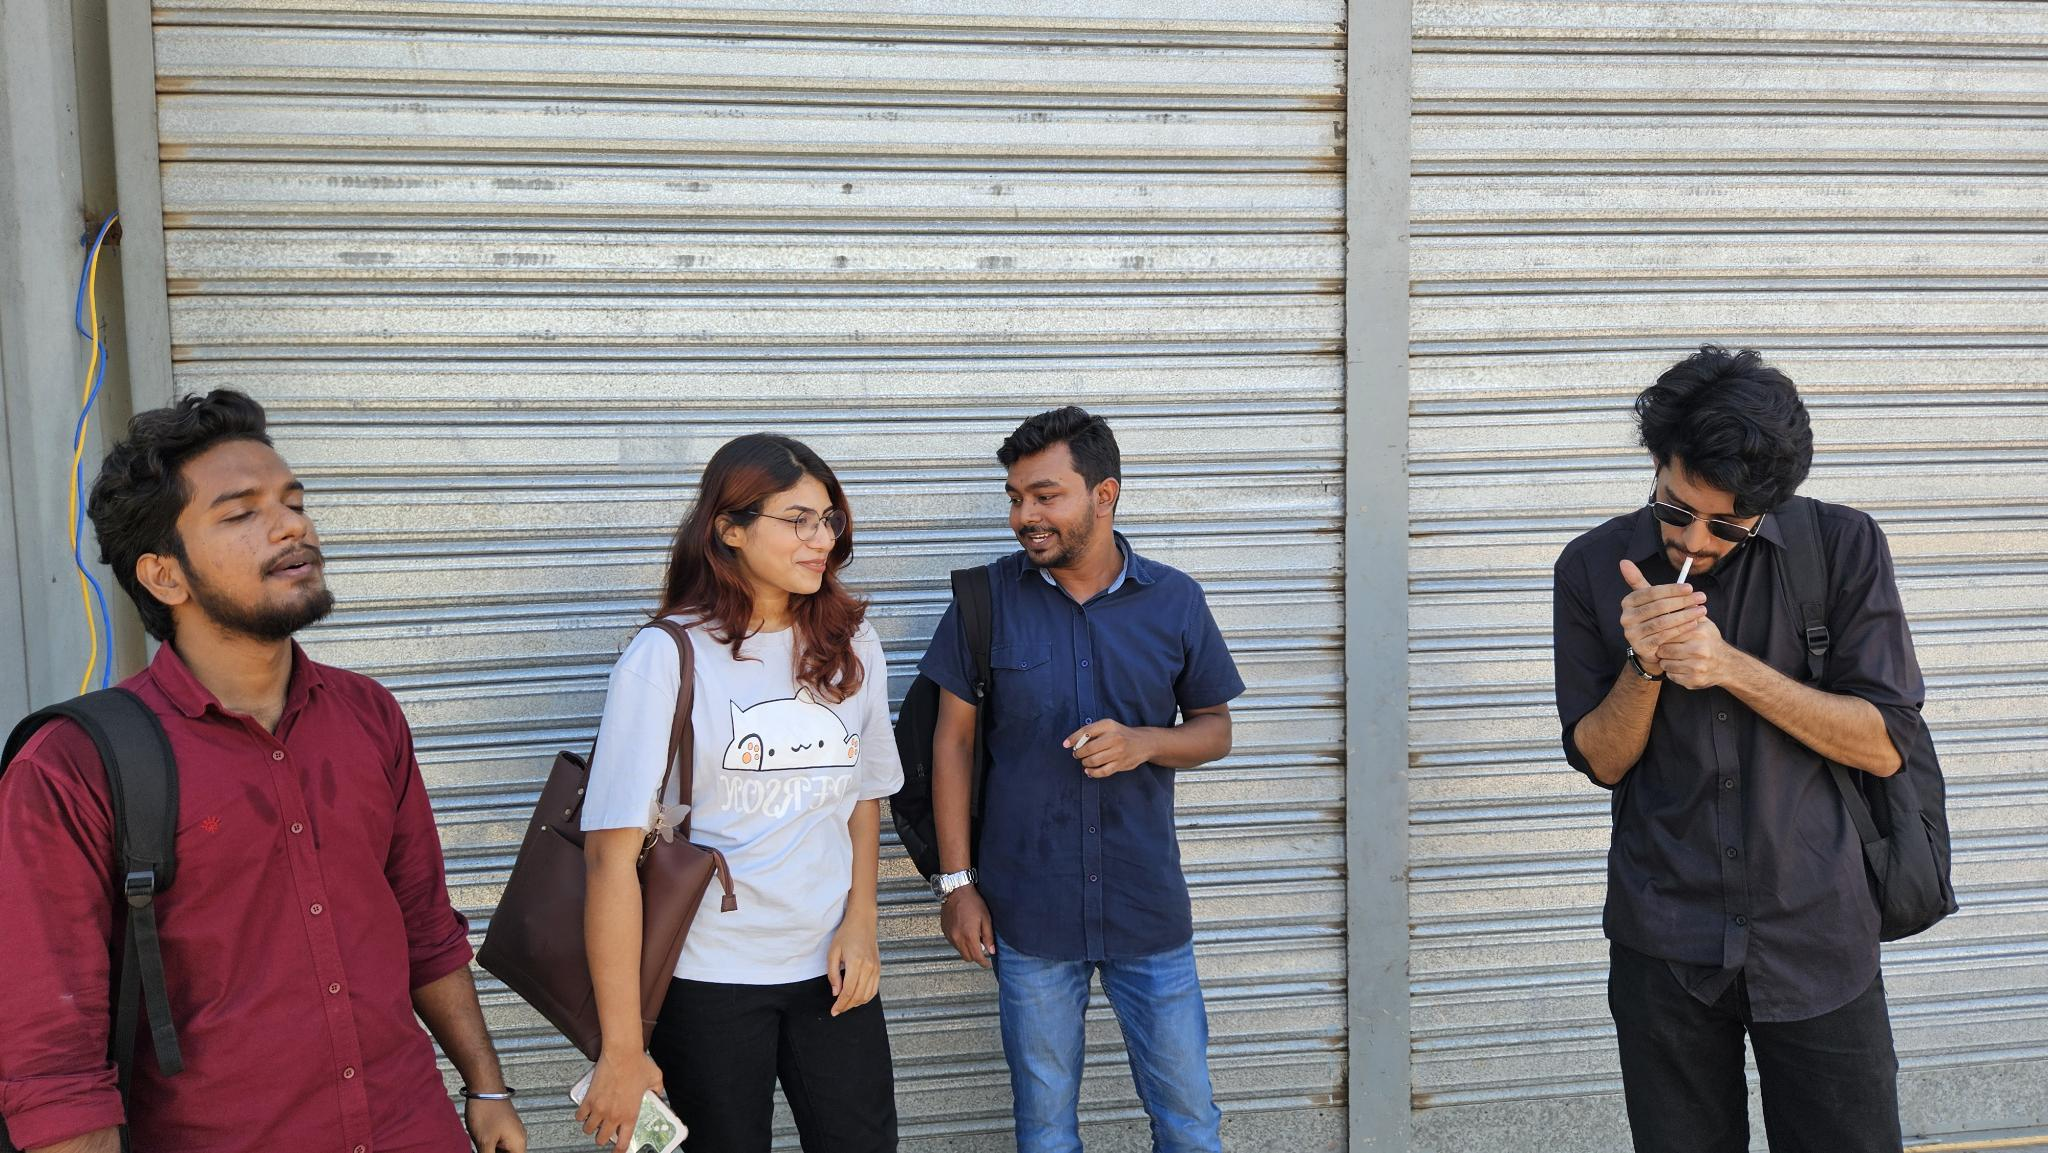cigarette: (1674, 554, 1695, 586), (1072, 730, 1094, 752)
nonSmoker: (0, 389, 527, 1153), (477, 432, 903, 1153)
smoker: (1553, 346, 1957, 1153), (893, 404, 1245, 1153)
